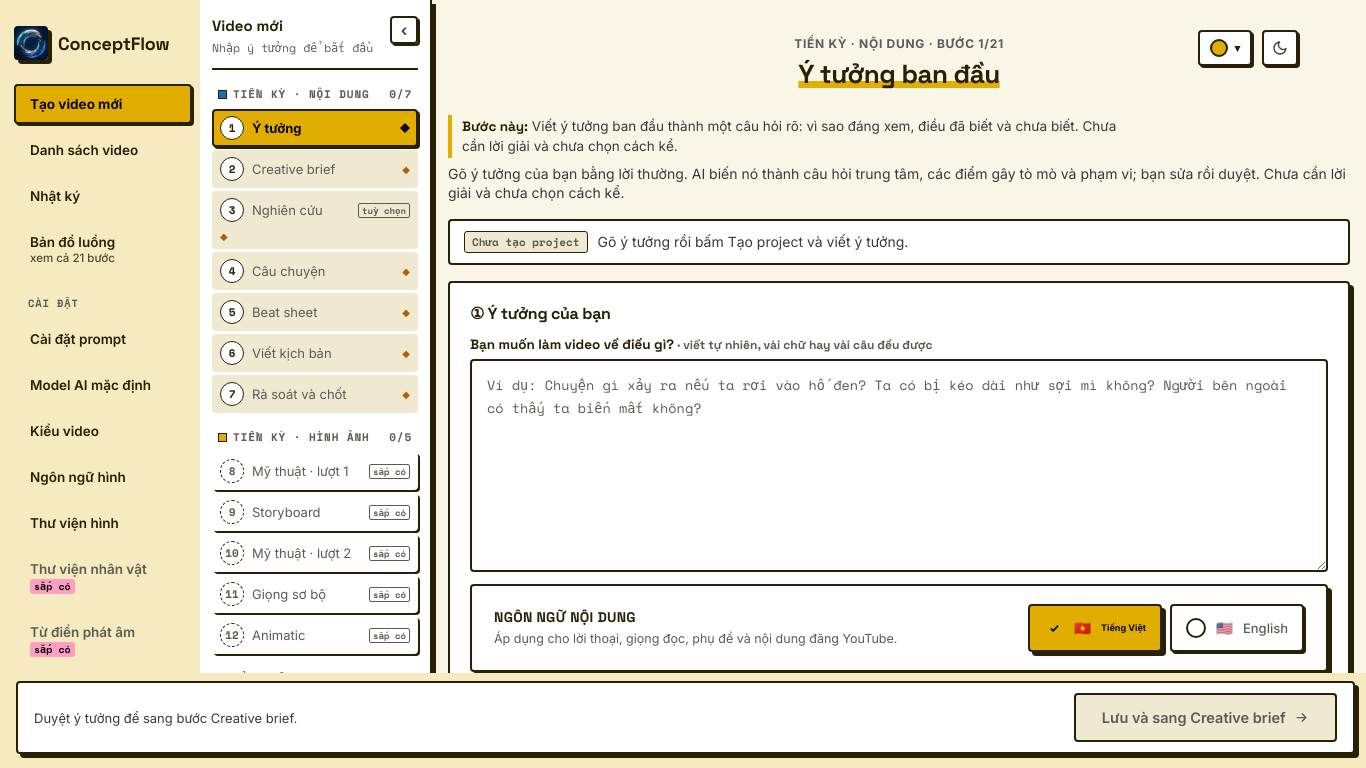
ScriptStepPage (Bước 1 — Ý tưởng) › tạo project rồi chạy ý tưởng trên DeepSeek; câu trả lời được đọc như dán tay, không tự đánh giá
Replace the text in the text box with test id "script-step-topic" with "Chuyện gì xảy ra nếu ta rơi vào hố đen?" at (899, 466), box [470, 359, 1328, 572]
(page scrolled)
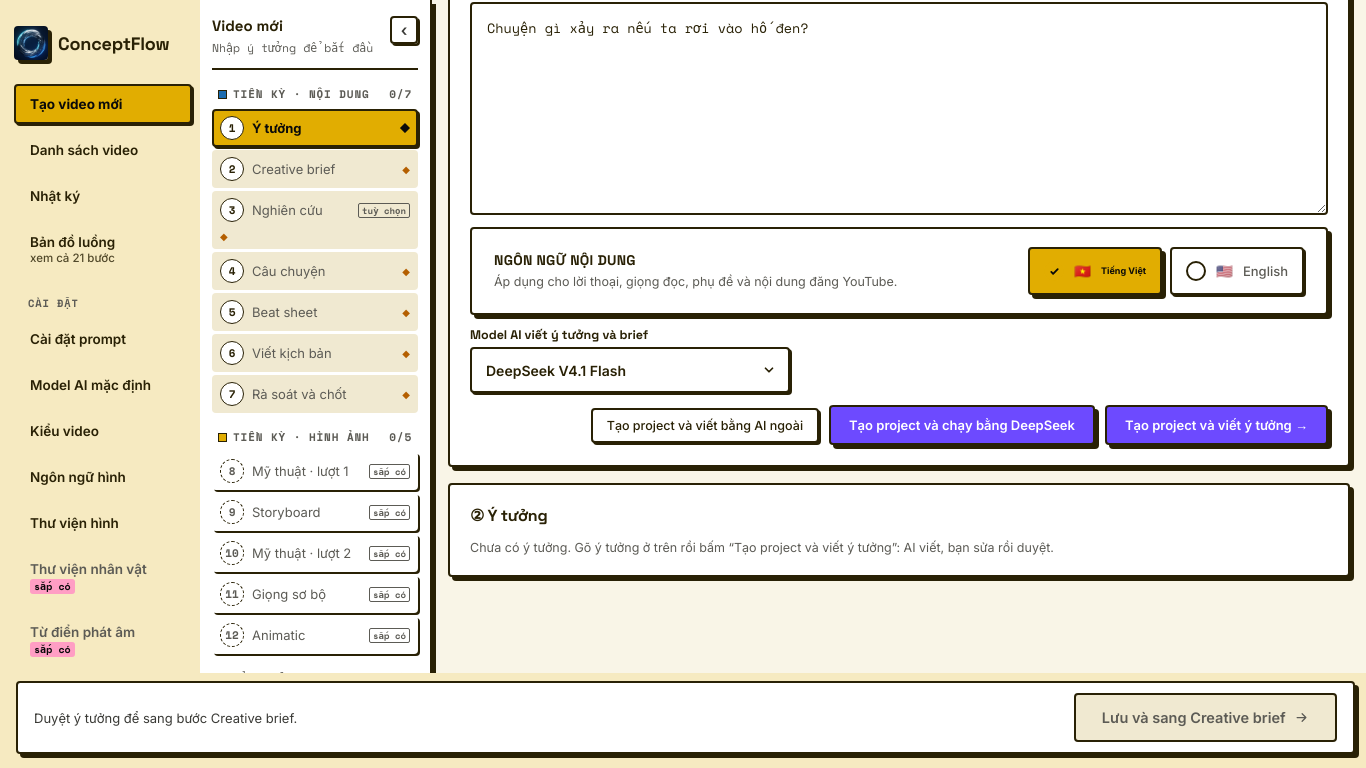
Click the button with test id "script-step-create-deepseek".
click(962, 426)  # box [829, 406, 1095, 446]
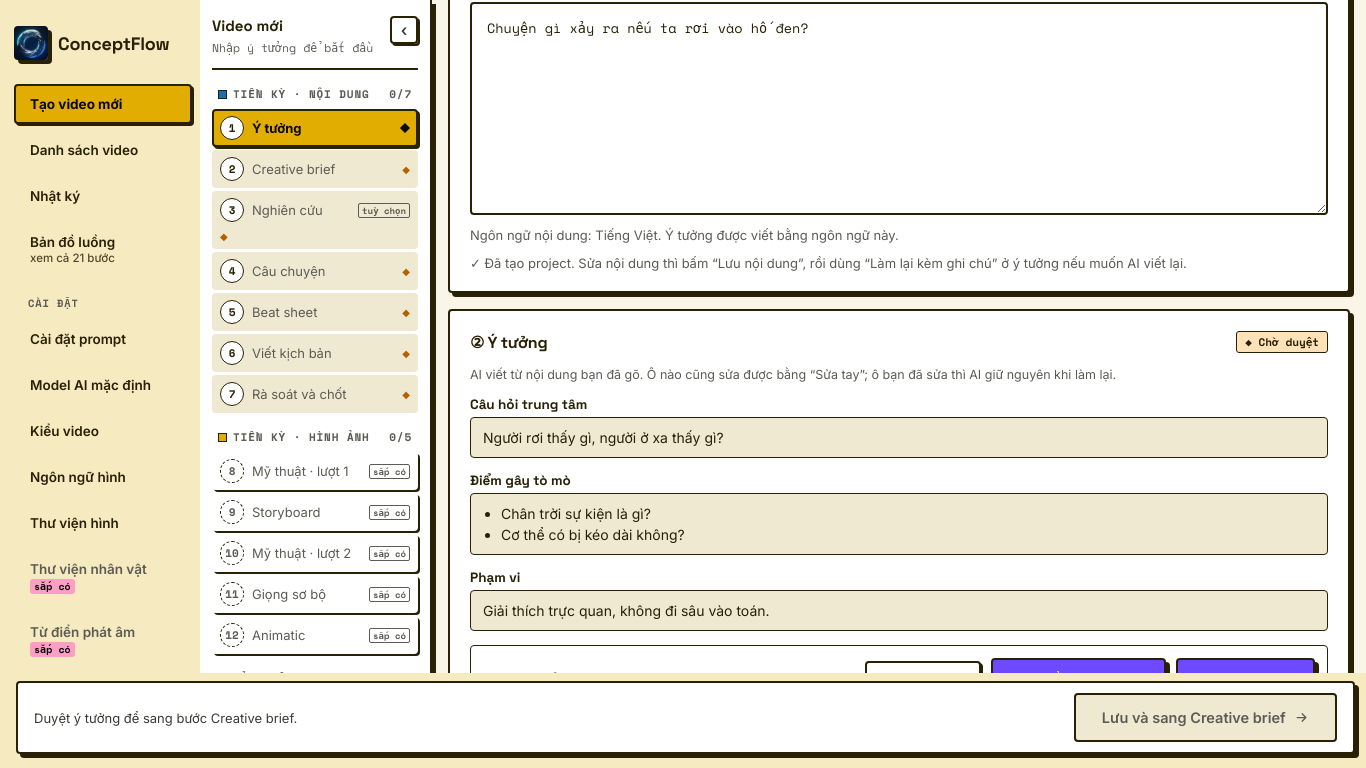
Result: the element with test id "idea-field-central_question" shows "Người rơi thấy gì" at [483, 430, 724, 446]
